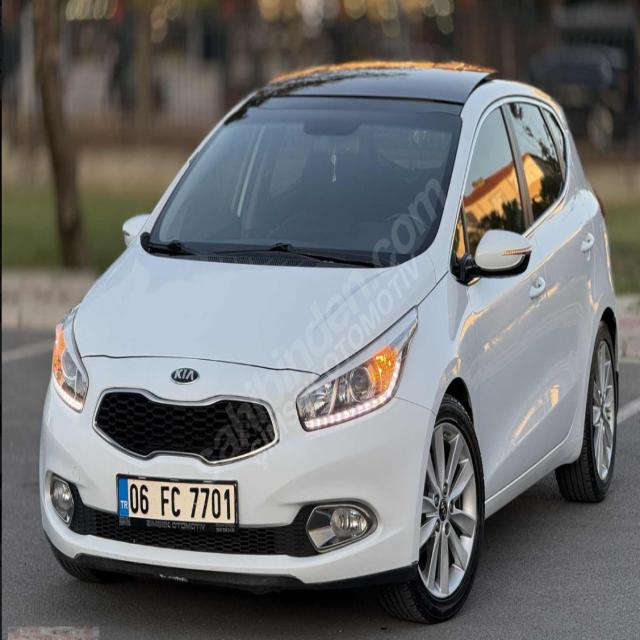kia: (168, 363, 201, 389)
